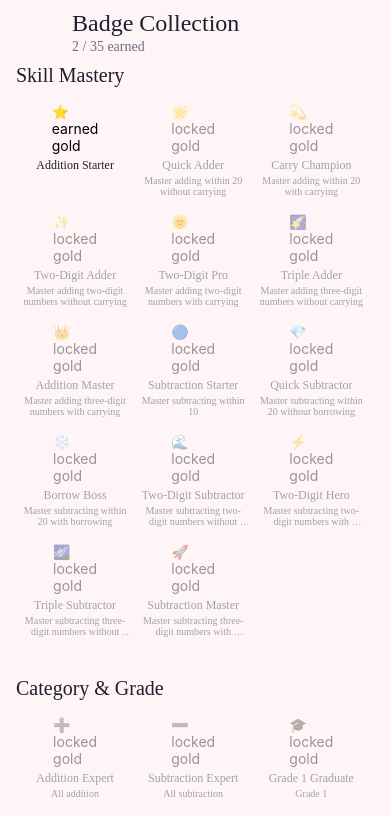
Test: BadgeCollectionScreen › shows "Not yet earned" in detail overlay for locked badges
The image size is (390, 816).
Tap a locked badge
Click the text "Quick Adder": coordinates (193, 166) [162,158,224,173]
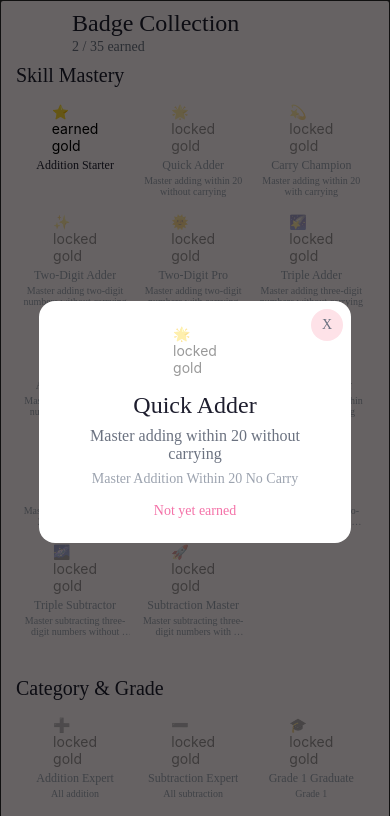
Expected: the text "Not yet earned" is shown, [154,503,236,519]
